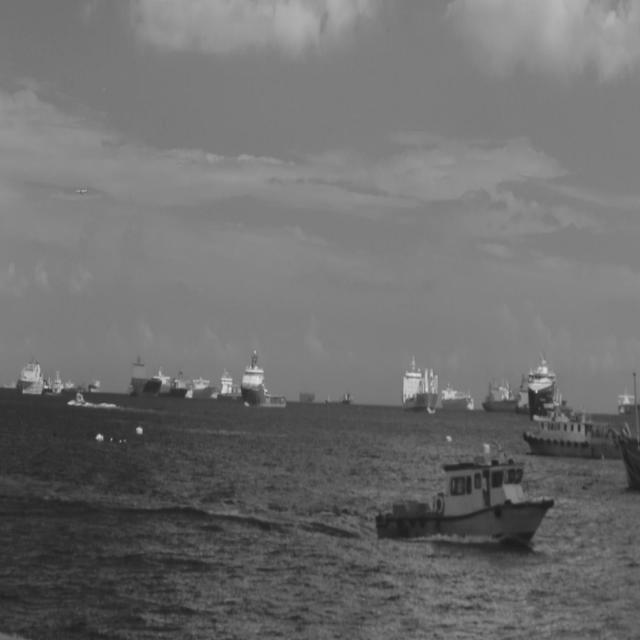buoy: (135, 424, 143, 436)
ship: (375, 454, 554, 544), (522, 385, 620, 459), (240, 345, 287, 408), (528, 348, 567, 420), (401, 353, 438, 414), (126, 354, 162, 398), (481, 371, 518, 412), (618, 429, 639, 493), (440, 380, 474, 411), (183, 372, 218, 400), (217, 363, 241, 401), (166, 362, 190, 397), (618, 386, 640, 416), (324, 392, 353, 407), (50, 368, 64, 396), (88, 377, 101, 393), (74, 388, 85, 406)
